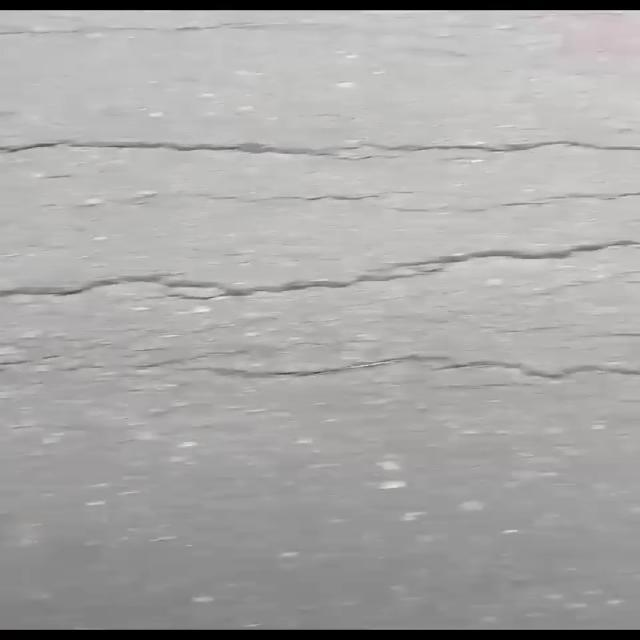Melintang: (0, 225, 640, 317), (0, 127, 640, 174), (190, 342, 640, 394)
